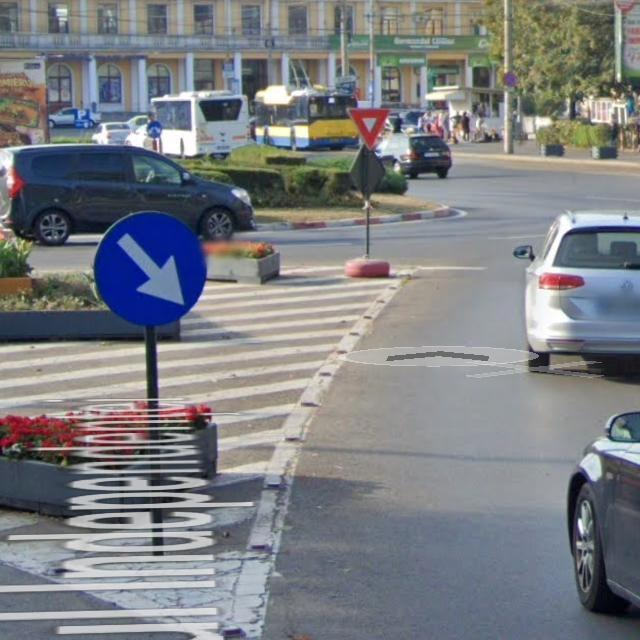prio_give_way: (351, 107, 391, 150)
